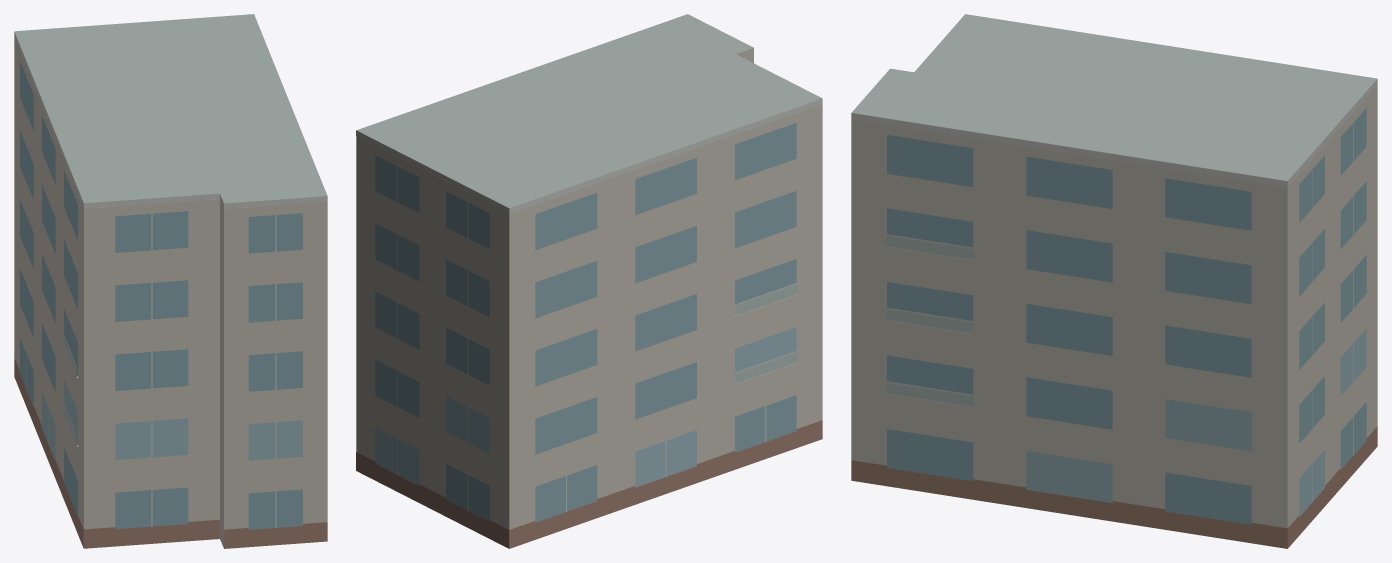
File: survey-upis-33011154.glb
The picture shows the model from 3 angles, left to right: view 1: azimuth 30°, elevation 25°; view 2: azimuth 150°, elevation 25°; view 3: azimuth 270°, elevation 25°; orthographic projection. The views are drawn at different scales.
Visible parts, largest first — view 1: survey-upis-33011154.tmp; view 2: survey-upis-33011154.tmp; view 3: survey-upis-33011154.tmp.
Boxes of the visible parts, box(x1,y1,x2,y2) form: survey-upis-33011154.tmp: box(14, 14, 327, 548); survey-upis-33011154.tmp: box(356, 14, 822, 548); survey-upis-33011154.tmp: box(851, 14, 1377, 548).
Size of the model in its own units: 13.85 by 14.2 by 18.43.
